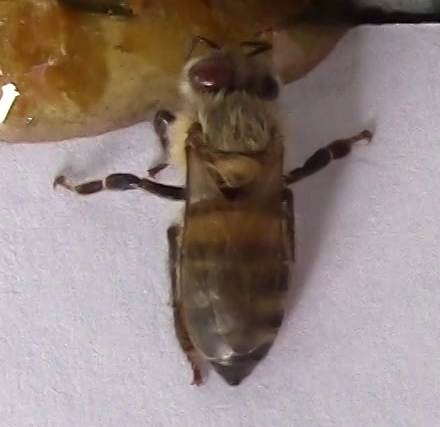Varroa destructor: (189, 56, 236, 92)
